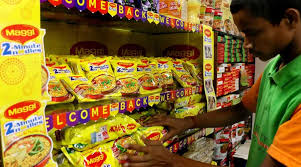maggi: (52, 57, 167, 158)
